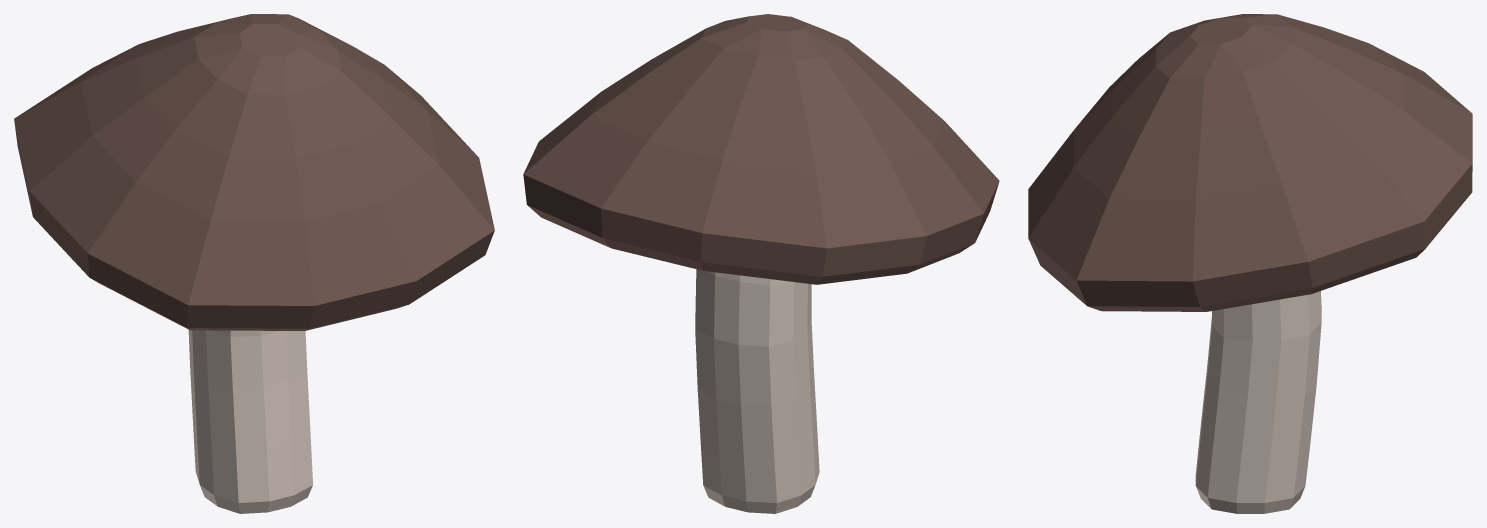
File: Mushroom1.4.fbx
3 views of the same model, side by side, from view 1: azimuth 30°, elevation 25°; view 2: azimuth 150°, elevation 25°; view 3: azimuth 270°, elevation 25° (orthographic).
Visible parts, largest first — view 1: Mushroom1.4; view 2: Mushroom1.4; view 3: Mushroom1.4.
Part boxes in pixels (x1,y1,x2,y2): Mushroom1.4: [14, 14, 494, 513]; Mushroom1.4: [523, 14, 999, 513]; Mushroom1.4: [1028, 14, 1472, 513].
Size of the model in its own units: 163 by 186 by 161.
